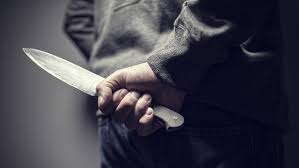knife: (19, 44, 188, 131)
